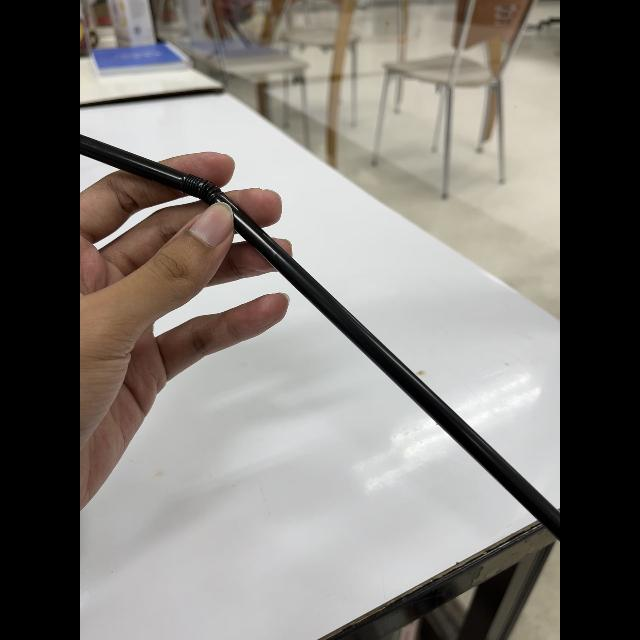straw: (80, 119, 560, 541)
